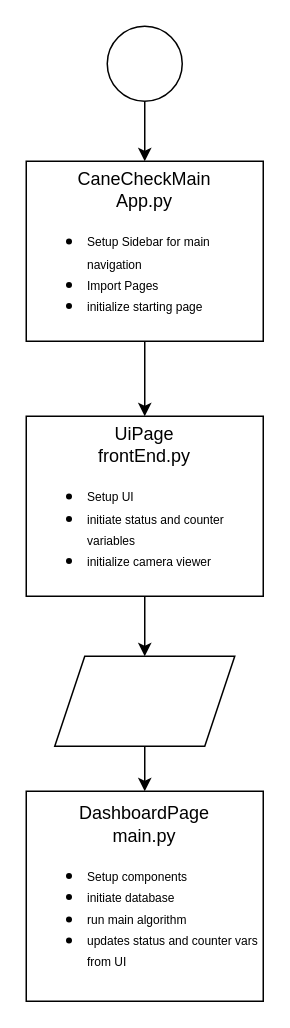
Some shapes in this 290 by 1028 pixel diagram are drawn without their labels. The shapes that lost their labels are listed below. From the top down, each one's centre as x and y in pixels, then its label:
At pixel 144 63: "Start".
At pixel 144 700: "Dashboard Interface".
